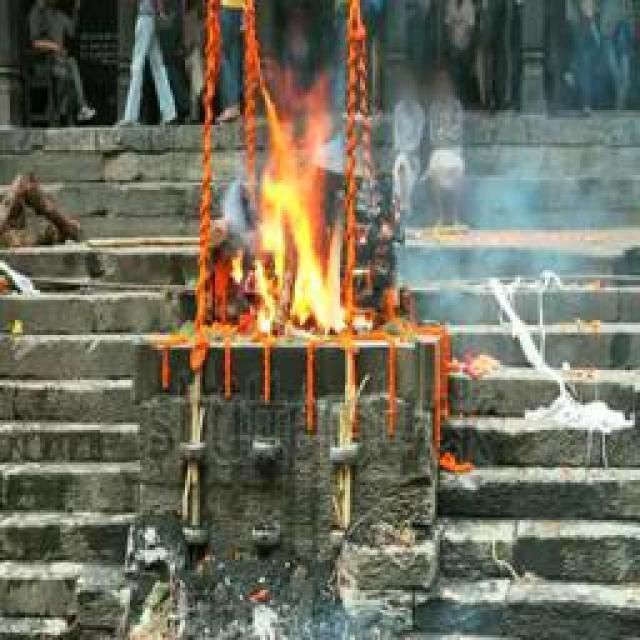fire: (245, 68, 363, 341)
